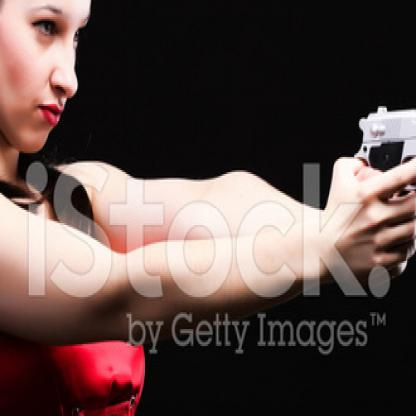gun: (345, 85, 415, 267)
